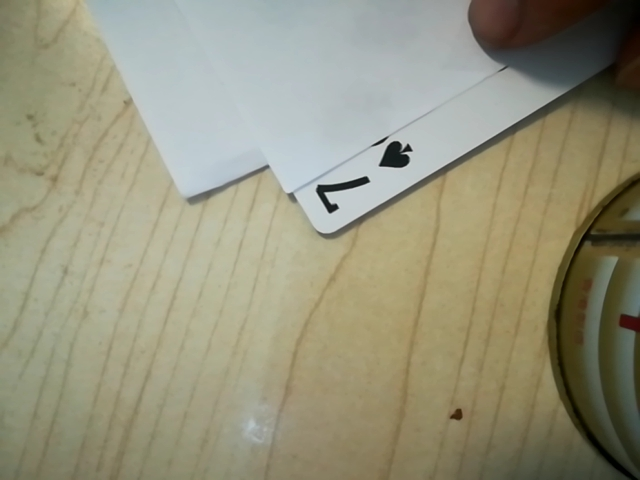ht 7: (302, 127, 431, 230)
